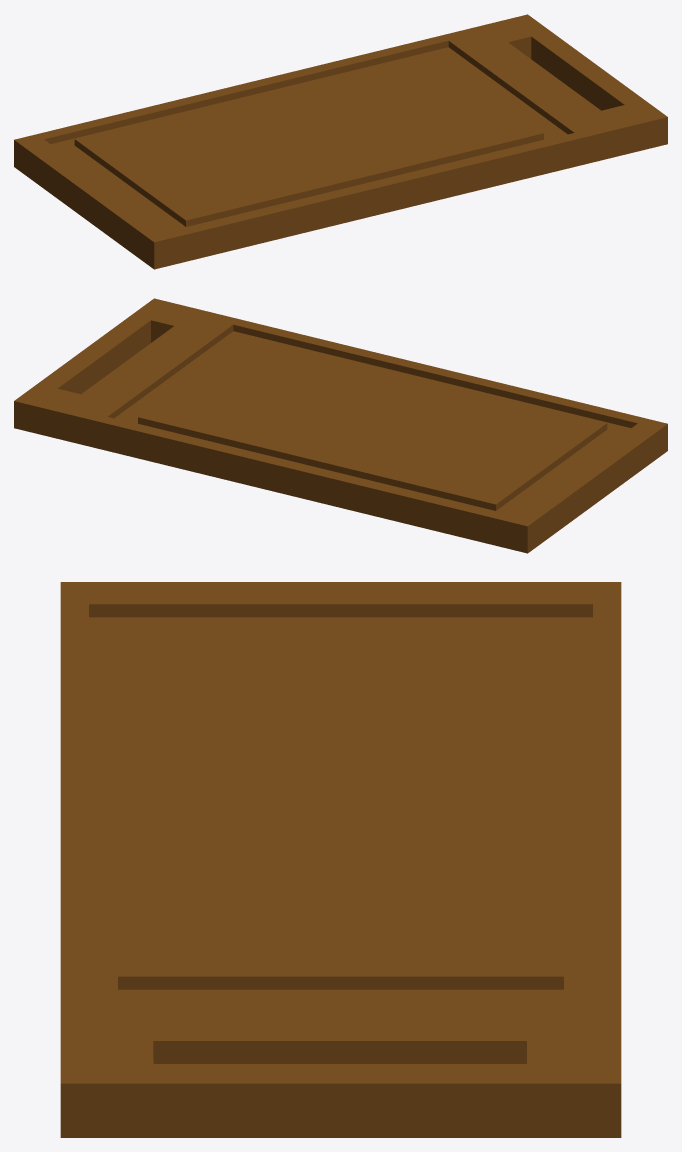
File: Cuttingboard.fbx
3 views of the same model, one above another, from view 1: azimuth 30°, elevation 25°; view 2: azimuth 150°, elevation 25°; view 3: azimuth 270°, elevation 25° (orthographic). The views are drawn at different scales.
Visible parts, largest first — view 1: Cube; view 2: Cube; view 3: Cube.
Part boxes in pixels (left/top/right/bottom): Cube: left=14, top=14, right=667, bottom=269; Cube: left=14, top=298, right=667, bottom=553; Cube: left=60, top=582, right=621, bottom=1137.
Size of the model in its own units: 170 by 8.61 by 80.54.
Materials: 1 (1 with a texture image).
